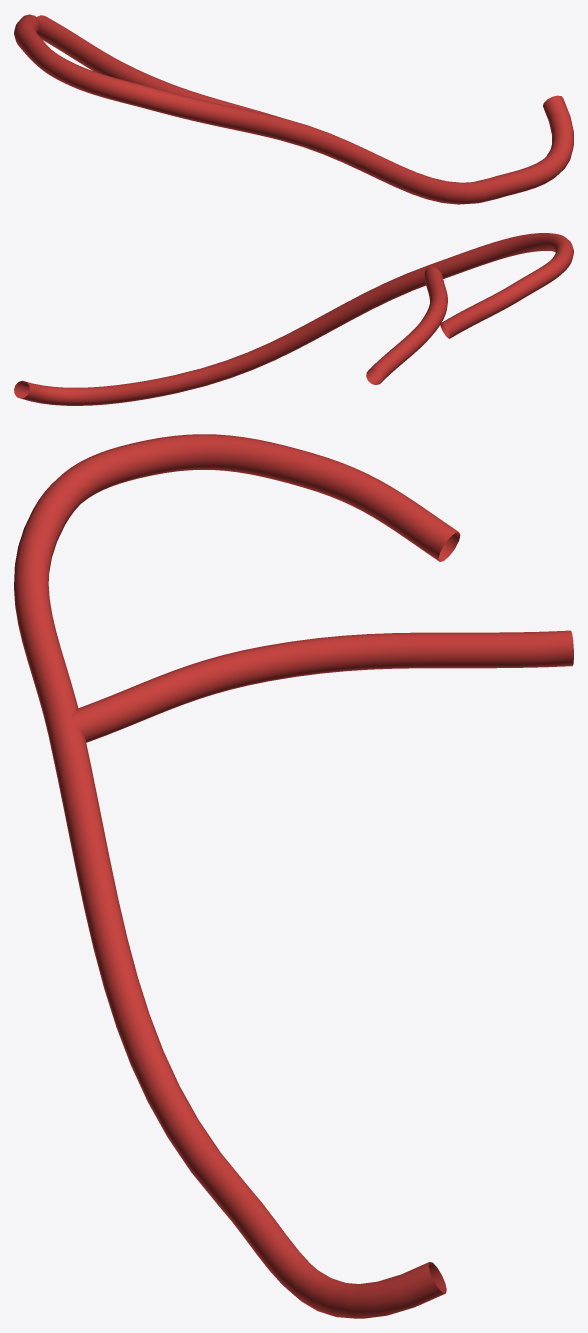
The picture shows the model from 3 angles, top to bottom: view 1: azimuth 30°, elevation 25°; view 2: azimuth 150°, elevation 25°; view 3: azimuth 270°, elevation 25°; orthographic projection. The views are drawn at different scales.
Parts seen in each view (by area): view 1: 中结肠动脉; view 2: 中结肠动脉; view 3: 中结肠动脉.
Part boxes in pixels (box(x1,y1,x2,y2)): 中结肠动脉: box(14, 14, 573, 204); 中结肠动脉: box(14, 233, 573, 405); 中结肠动脉: box(14, 434, 573, 1318).
Size of the model in its own units: 0.091 by 0.041 by 0.0462.
